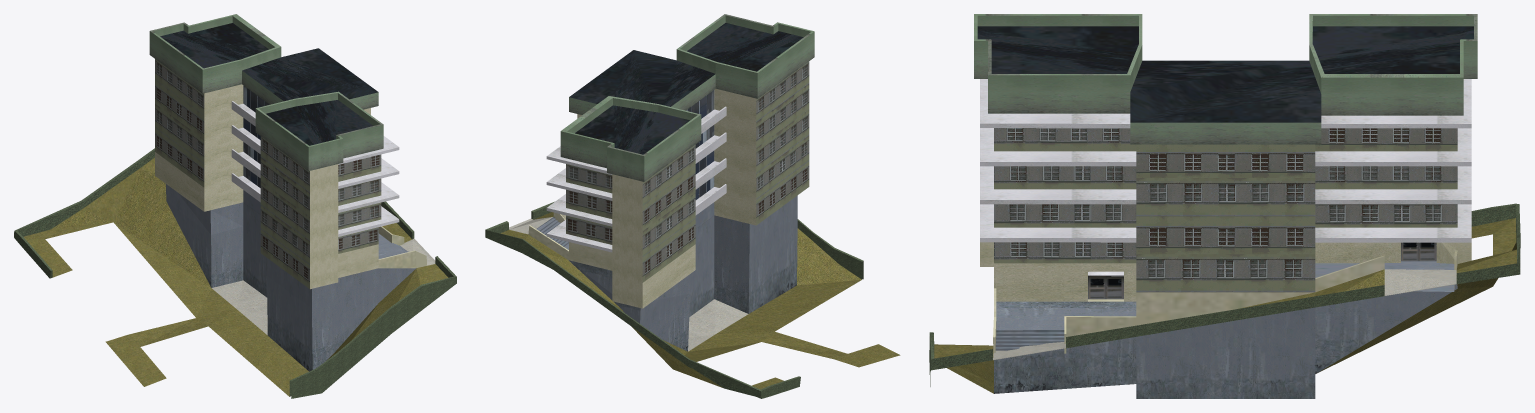
Rendered from ebeachap2_lae2.obj.
3 renders of one model, left to right at view 1: azimuth 30°, elevation 25°; view 2: azimuth 150°, elevation 25°; view 3: azimuth 270°, elevation 25°, orthographic. The views are drawn at different scales.
Parts seen in each view (by area): view 1: EBeachAp2_LAe2; view 2: EBeachAp2_LAe2; view 3: EBeachAp2_LAe2.
Boxes of the visible parts, x1,y1,x2,y2 form: EBeachAp2_LAe2: [14, 14, 456, 398]; EBeachAp2_LAe2: [485, 14, 900, 398]; EBeachAp2_LAe2: [929, 14, 1520, 398].
Size of the model in its own units: 39.18 by 35.08 by 49.22.
